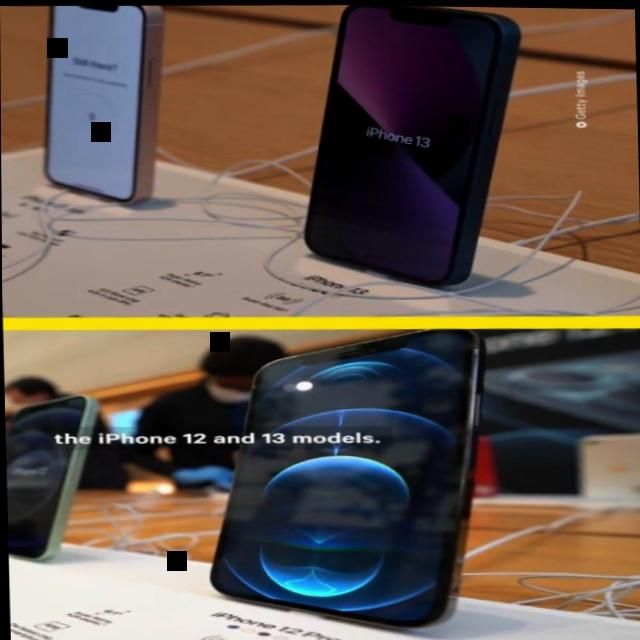Mask: (202, 369, 255, 402), (4, 384, 37, 414)
